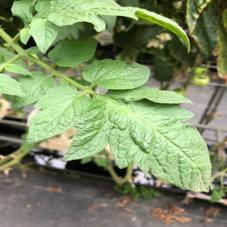Healthy: (62, 90, 217, 186), (26, 82, 91, 144), (82, 59, 153, 90), (10, 71, 55, 112), (46, 36, 96, 66)
